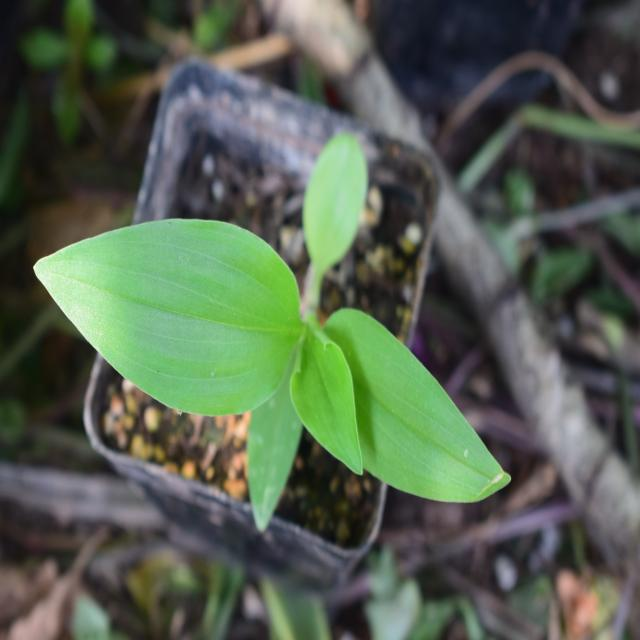Common Dayflower: (42, 188, 486, 546)
